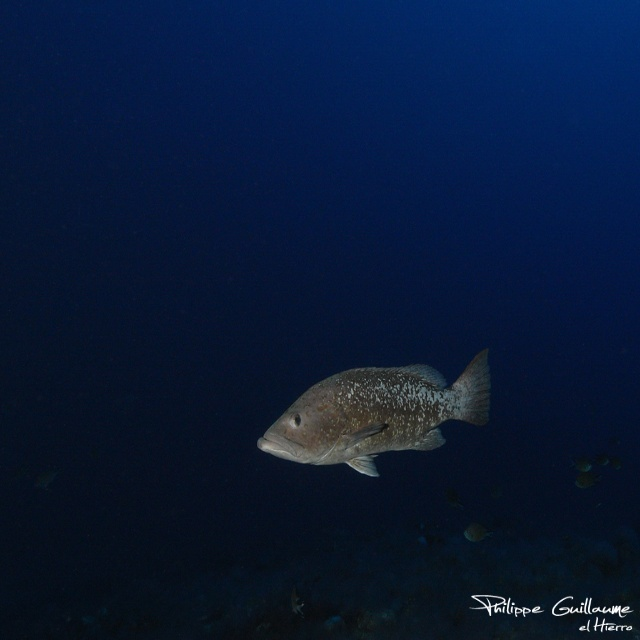Fish: (258, 353, 489, 475)
